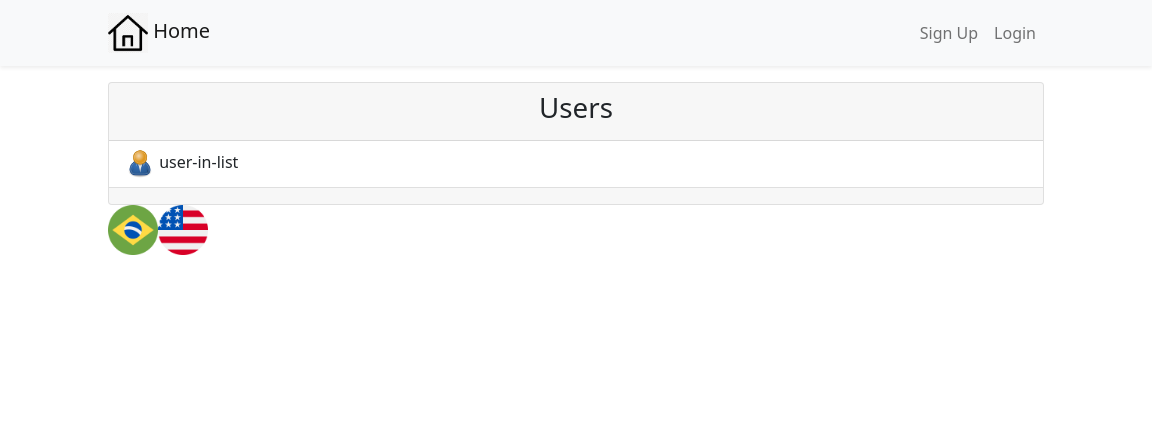
Test: Routing › navigates to user page when clicking the username on user list
Click the text "user-in-list": (182, 164) [125, 149, 238, 179]
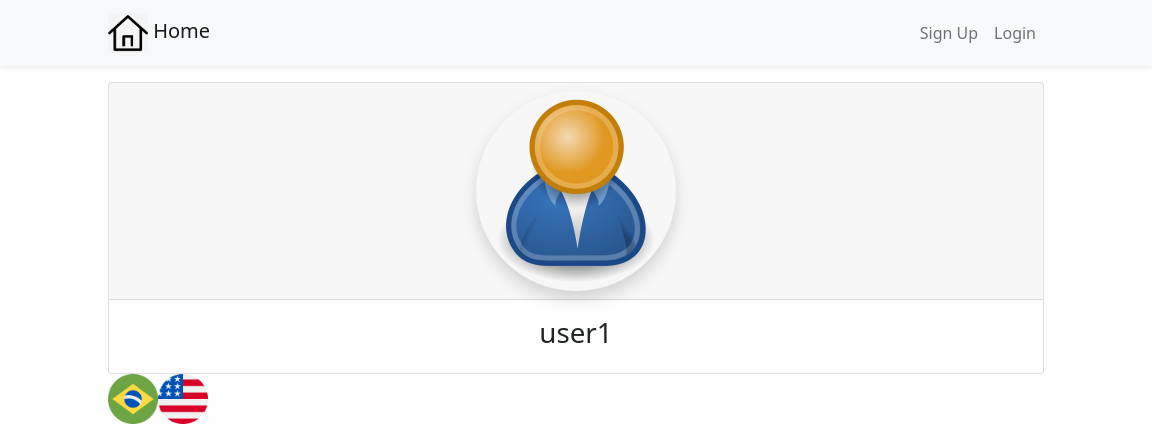
Now the element with test id "user-page" is shown, box [108, 82, 1044, 374]
